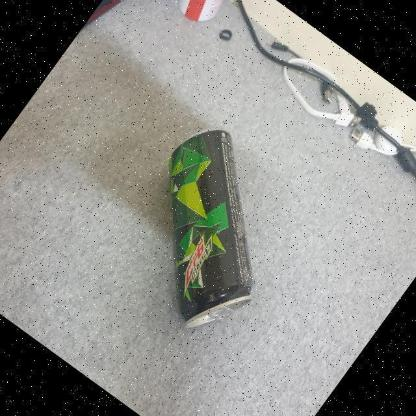Can: (168, 130, 254, 328)
